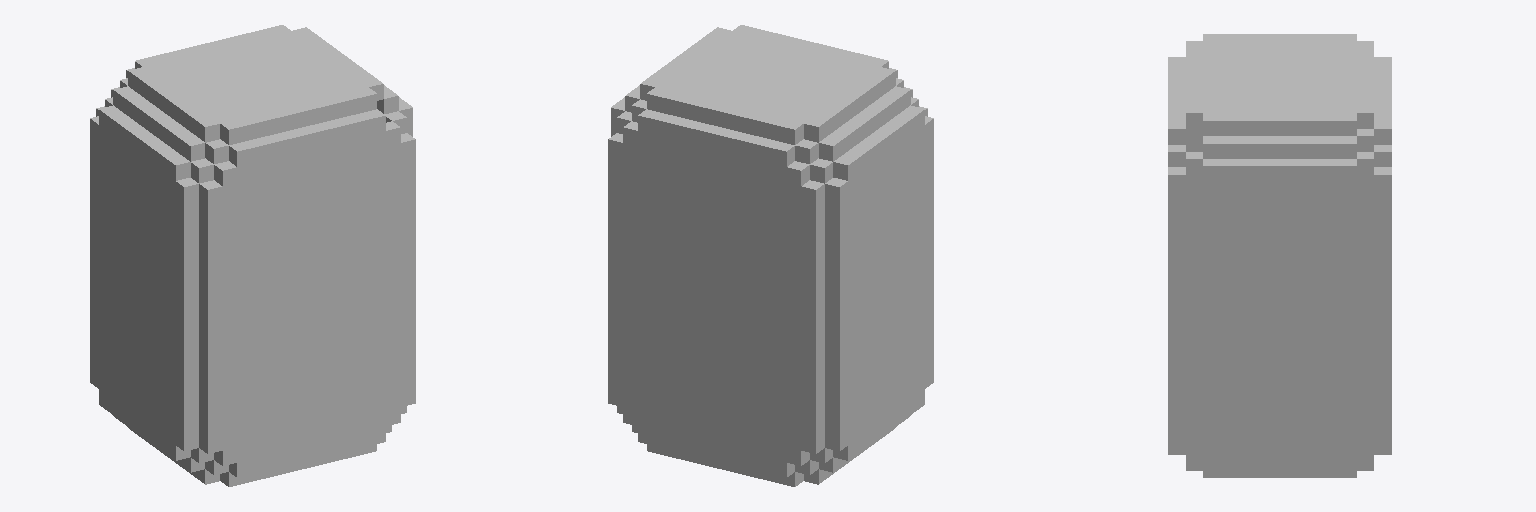
The model's file is Guard3_HandR.obj.
3 views of the same model, side by side, from view 1: azimuth 30°, elevation 25°; view 2: azimuth 150°, elevation 25°; view 3: azimuth 270°, elevation 25° (orthographic).
Size of the model in its own units: 16 by 23 by 13.